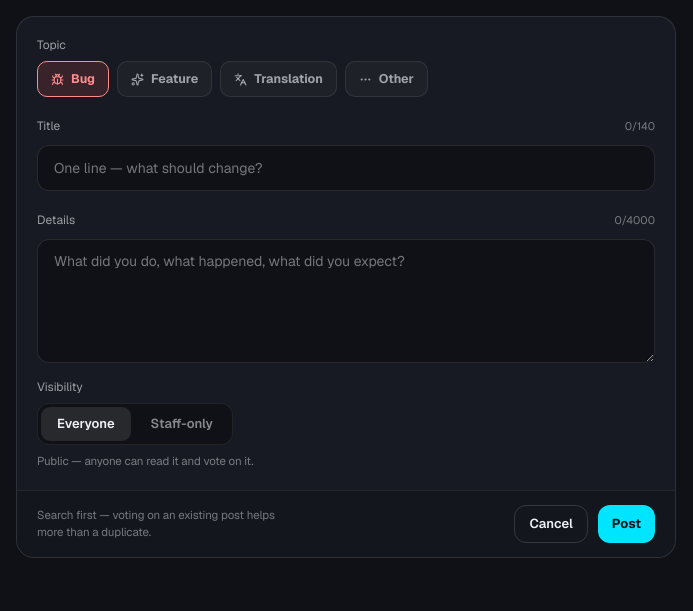
Test case: NewFeedbackForm › surfaces the backend's blocked-term rejection inline and does not navigate
The image size is (693, 611).
In the field labelled "Title": (346, 168) [37,145,655,191], type "My bug"
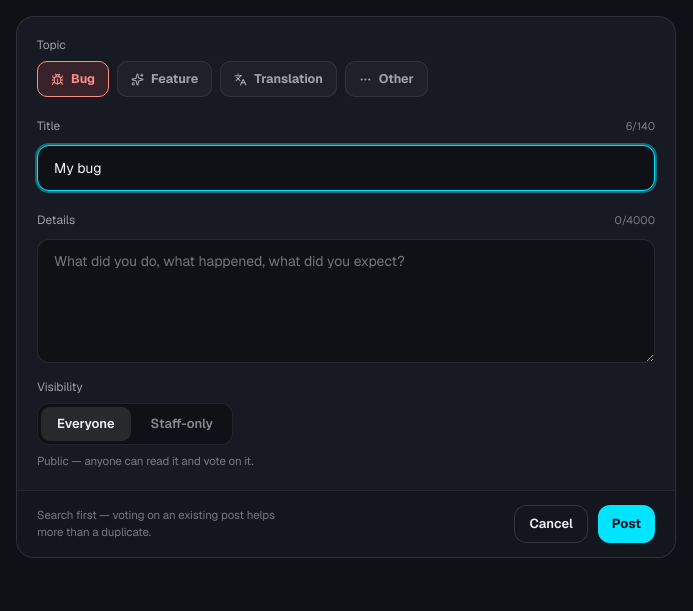
In the text box labelled "Details": (346, 301) [37,239,655,363], type "It crashes on load"
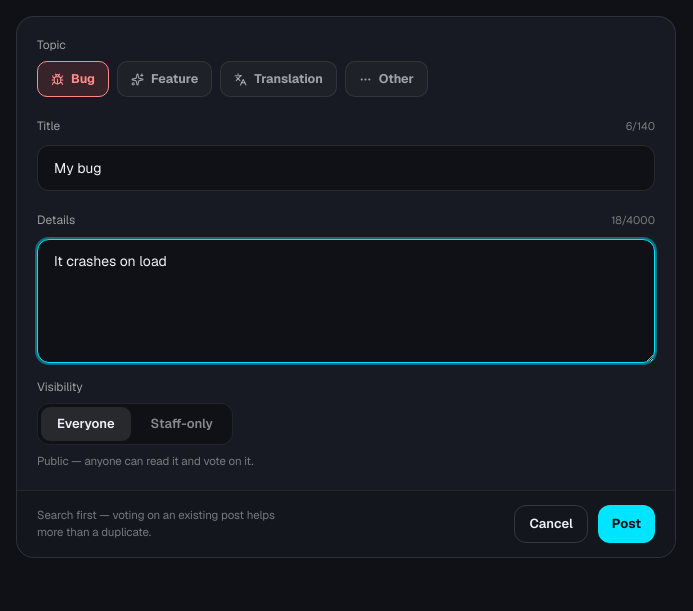
Click the button "Post": (626, 524) [598,505,655,543]
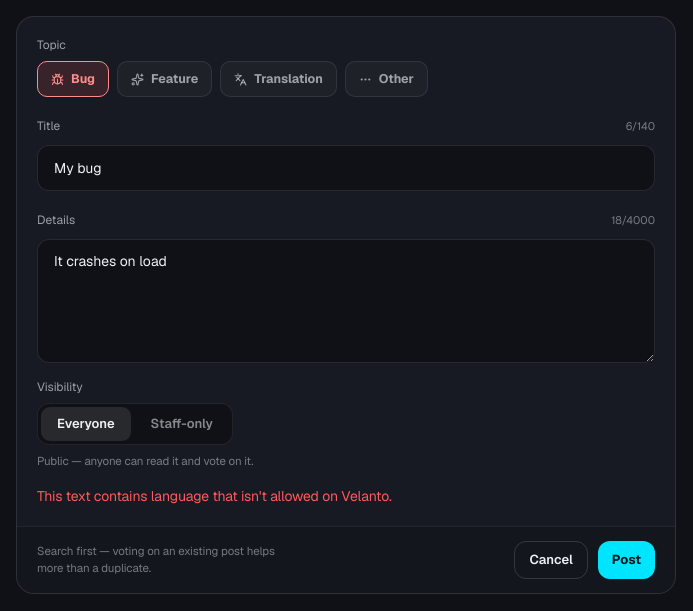
expect the text "This text contains language that isn't allowed on Velanto." is shown: met, box [37,487,392,505]
